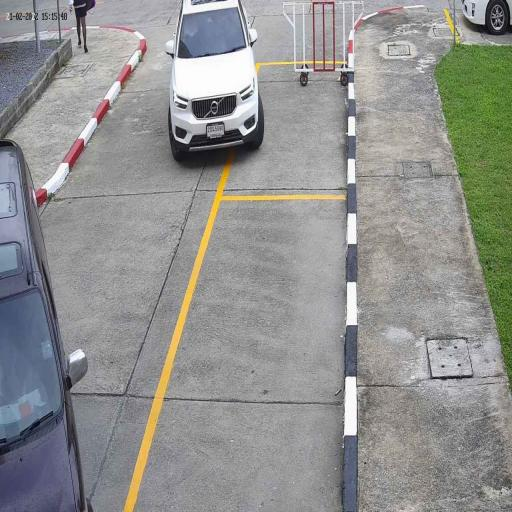car: (0, 133, 89, 512), (167, 0, 261, 164)
